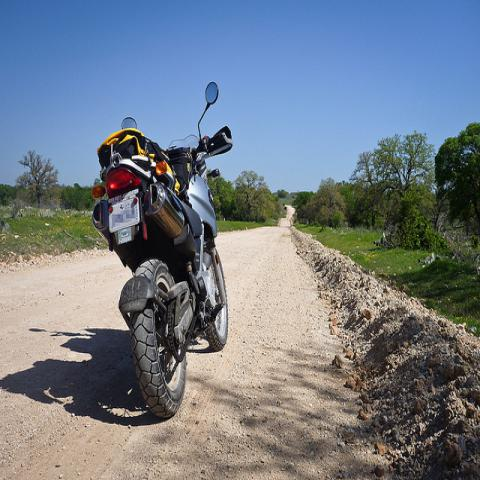motorcycle: (88, 71, 240, 427)
